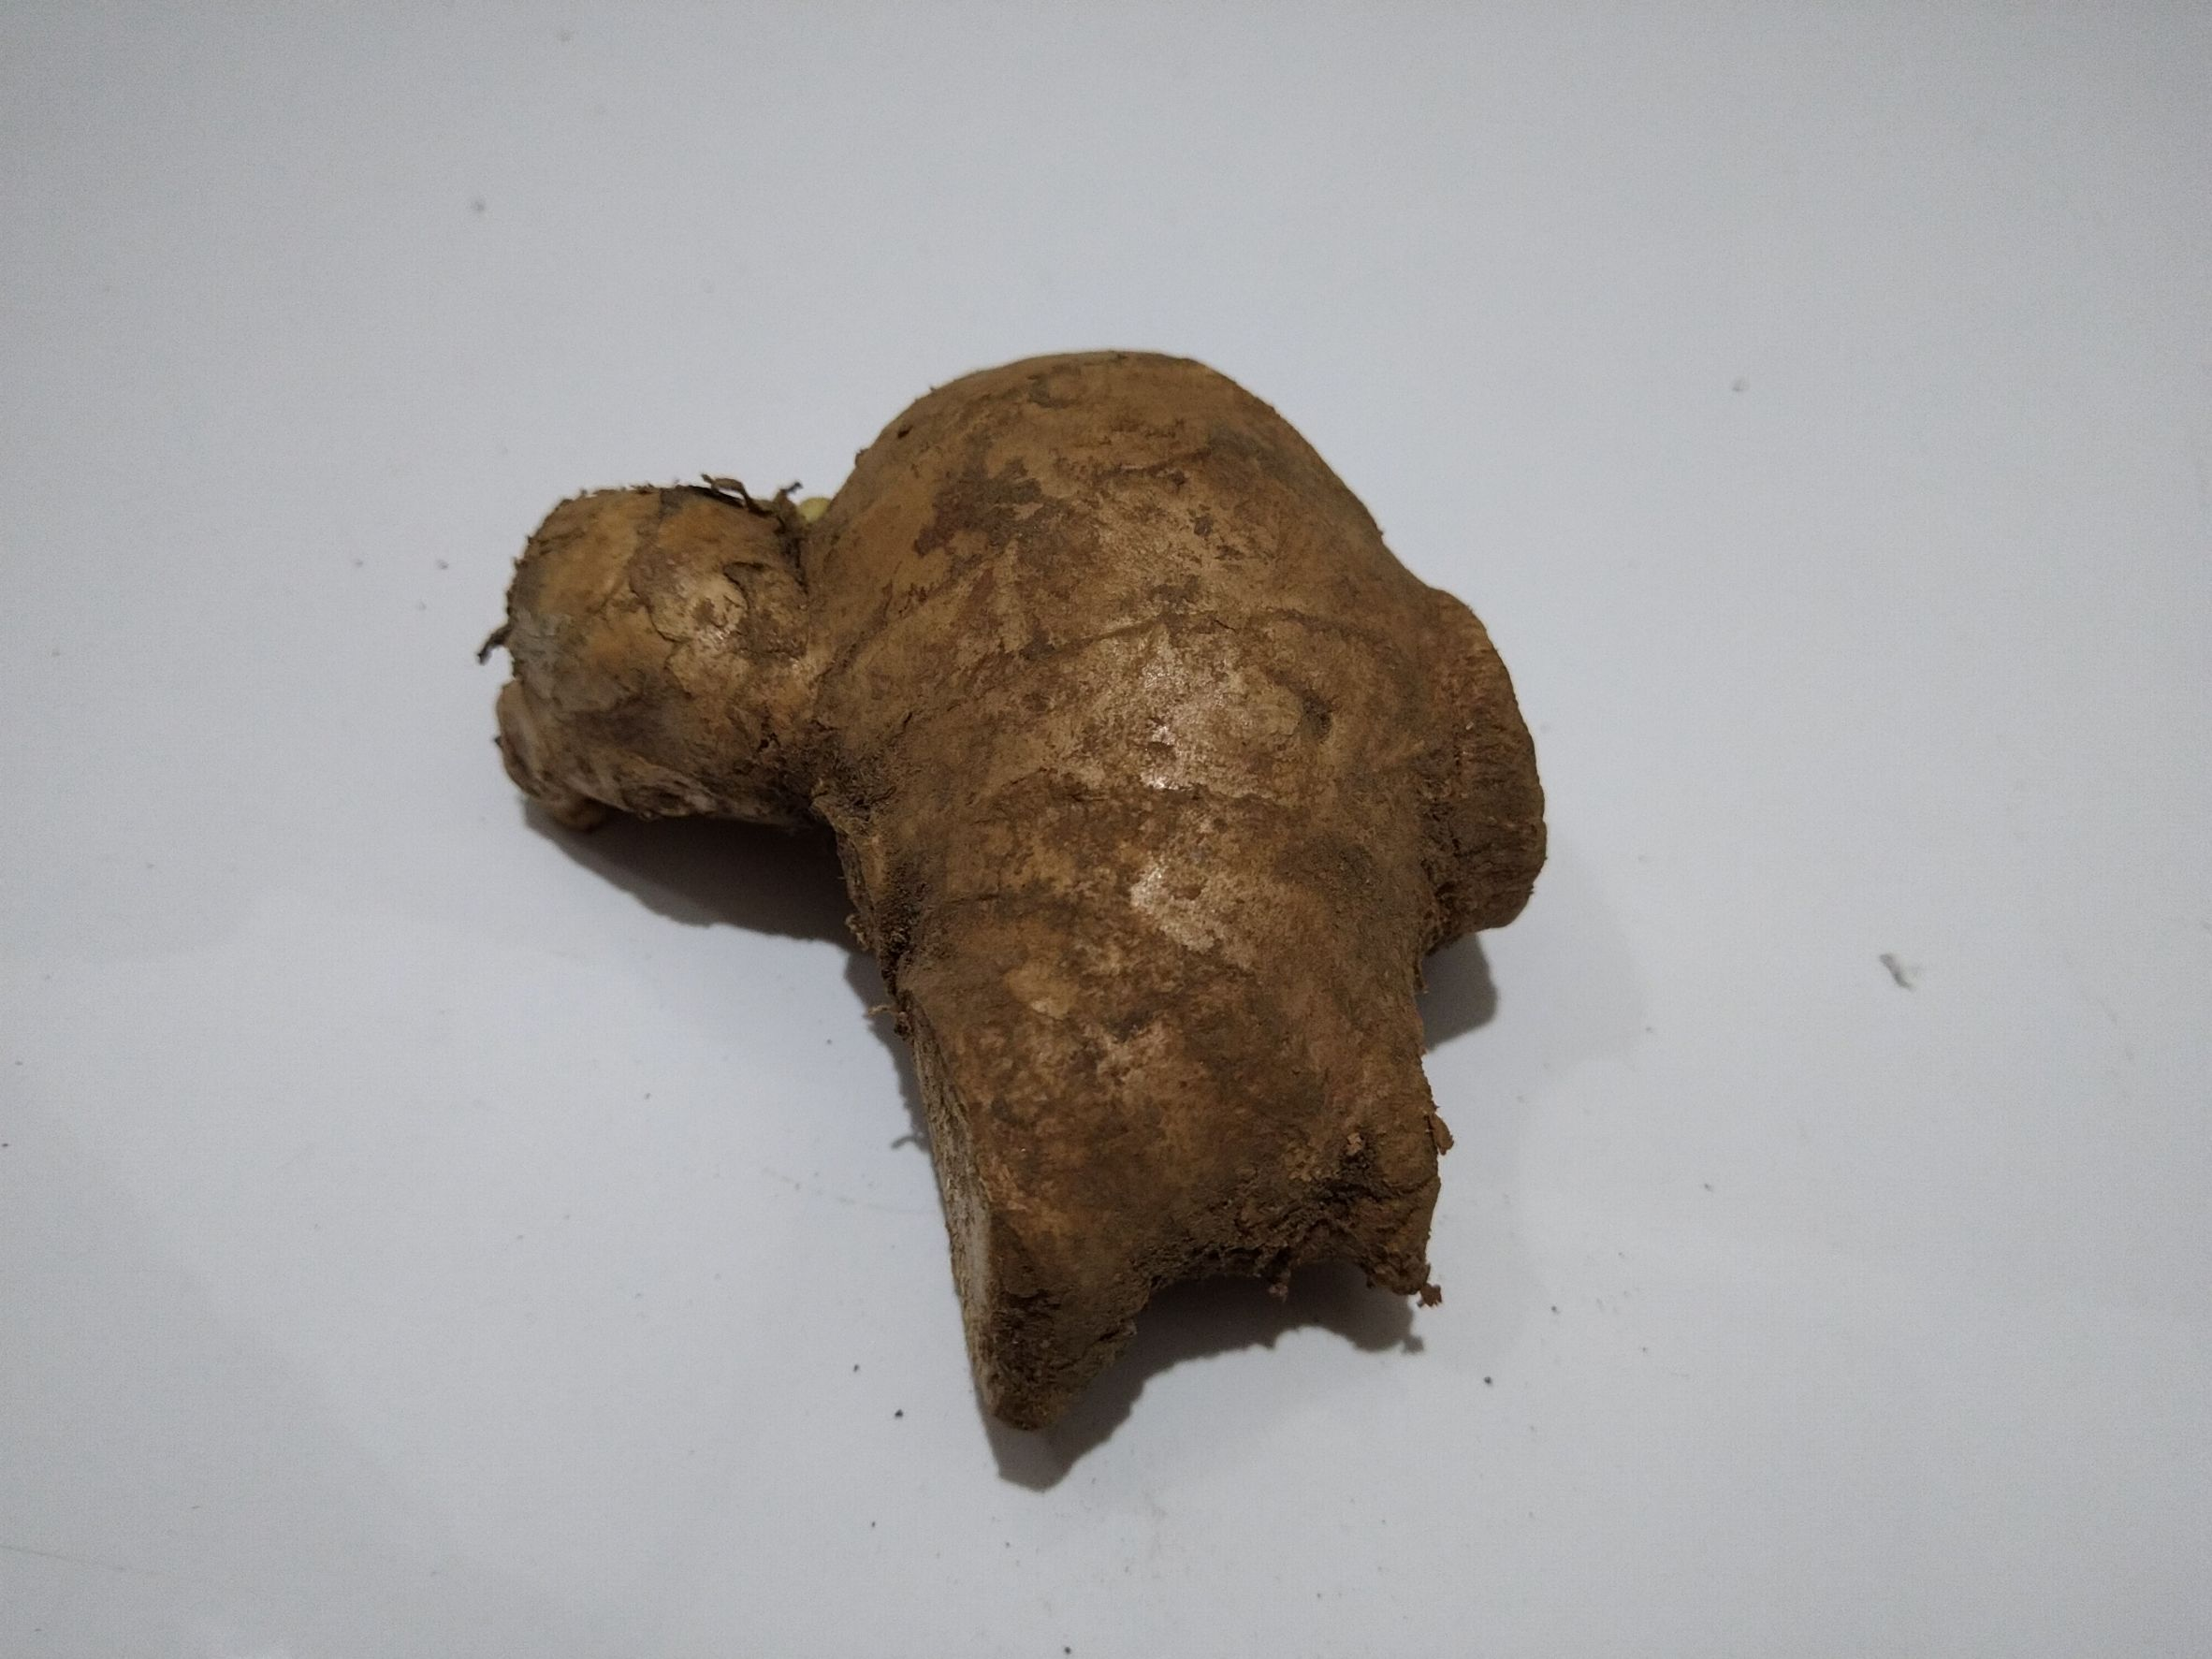Jahe: (493, 389, 1545, 1485)
